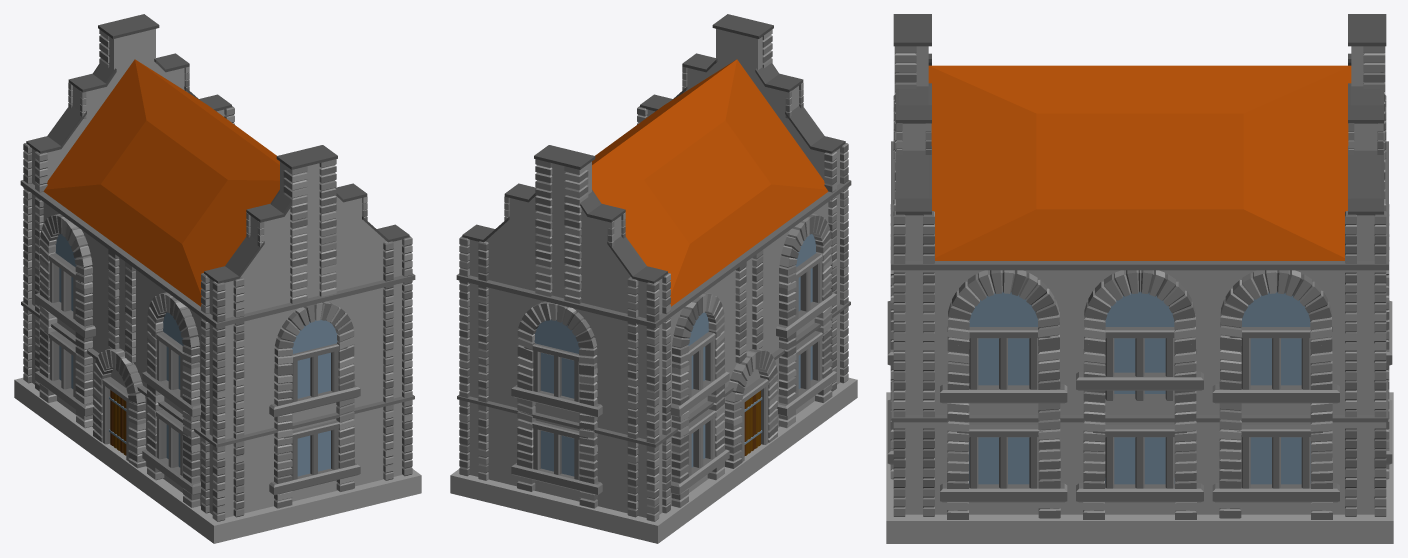
The model's file is castle_town_house_2.fbx.
3 views of the same model, side by side, from view 1: azimuth 30°, elevation 25°; view 2: azimuth 150°, elevation 25°; view 3: azimuth 270°, elevation 25° (orthographic). The views are drawn at different scales.
Visible parts, largest first — view 1: house; view 2: house; view 3: house.
Boxes of the visible parts, bbox=[...] form: house: bbox=[14, 14, 421, 543]; house: bbox=[450, 14, 857, 543]; house: bbox=[886, 14, 1393, 543].
Bounding box in the file's own units: 10000 × 9811 × 6037.
